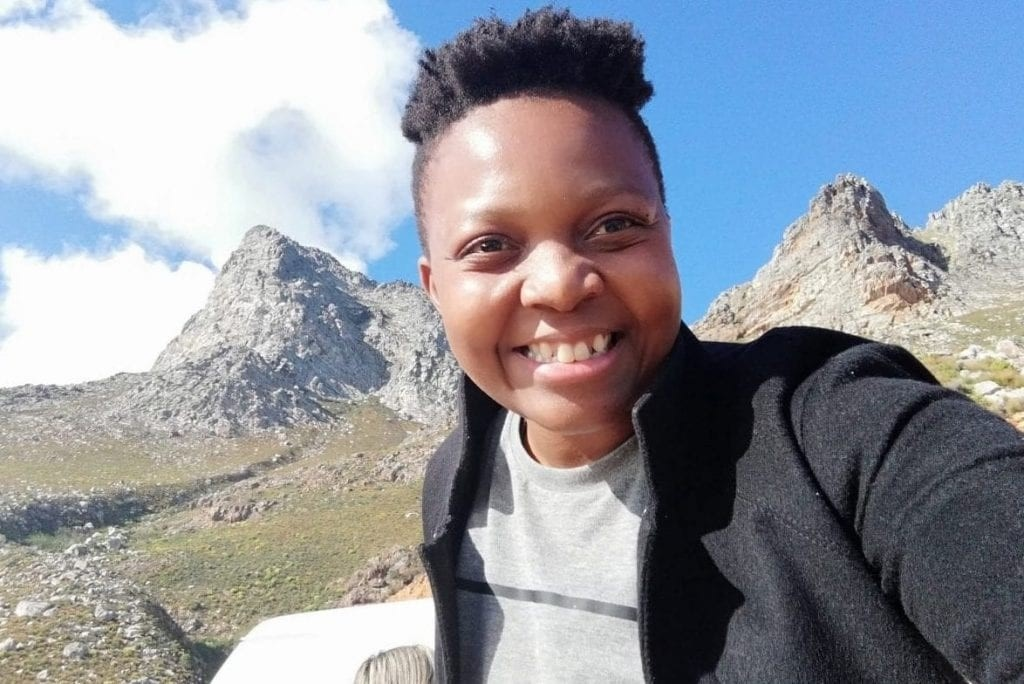face_no_mask: (401, 16, 682, 435)
